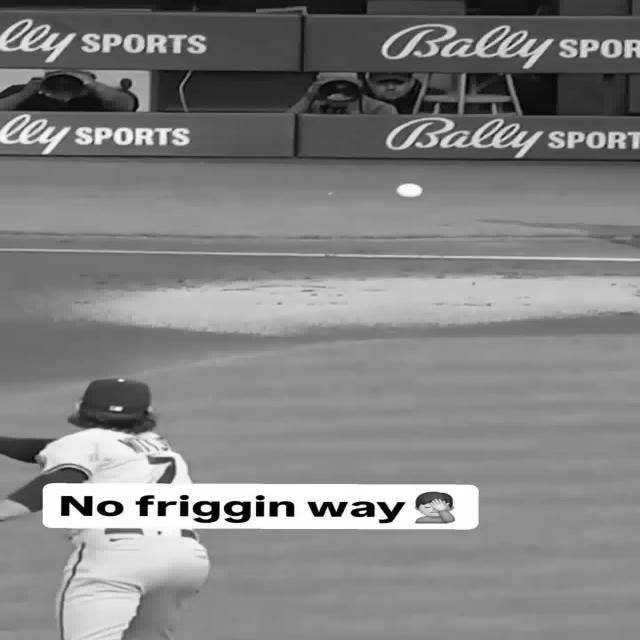baseball: (396, 182, 422, 198)
